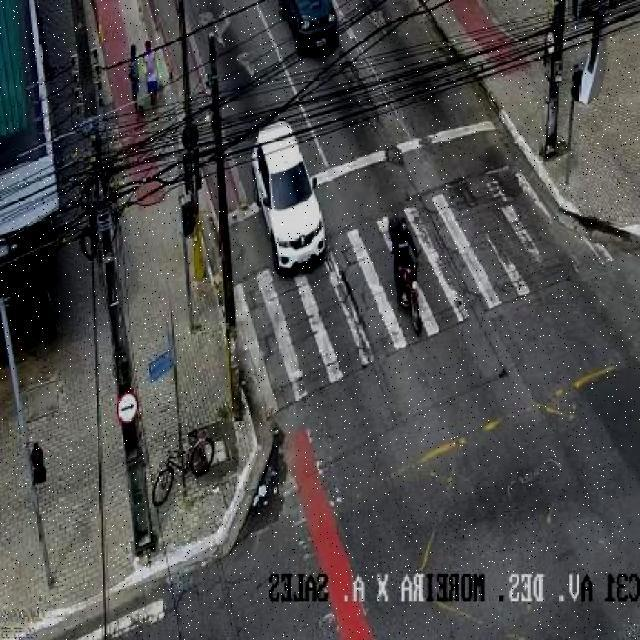Car: (244, 138, 333, 286), (277, 2, 348, 58)
Cycle: (132, 429, 225, 512), (381, 215, 434, 338)
